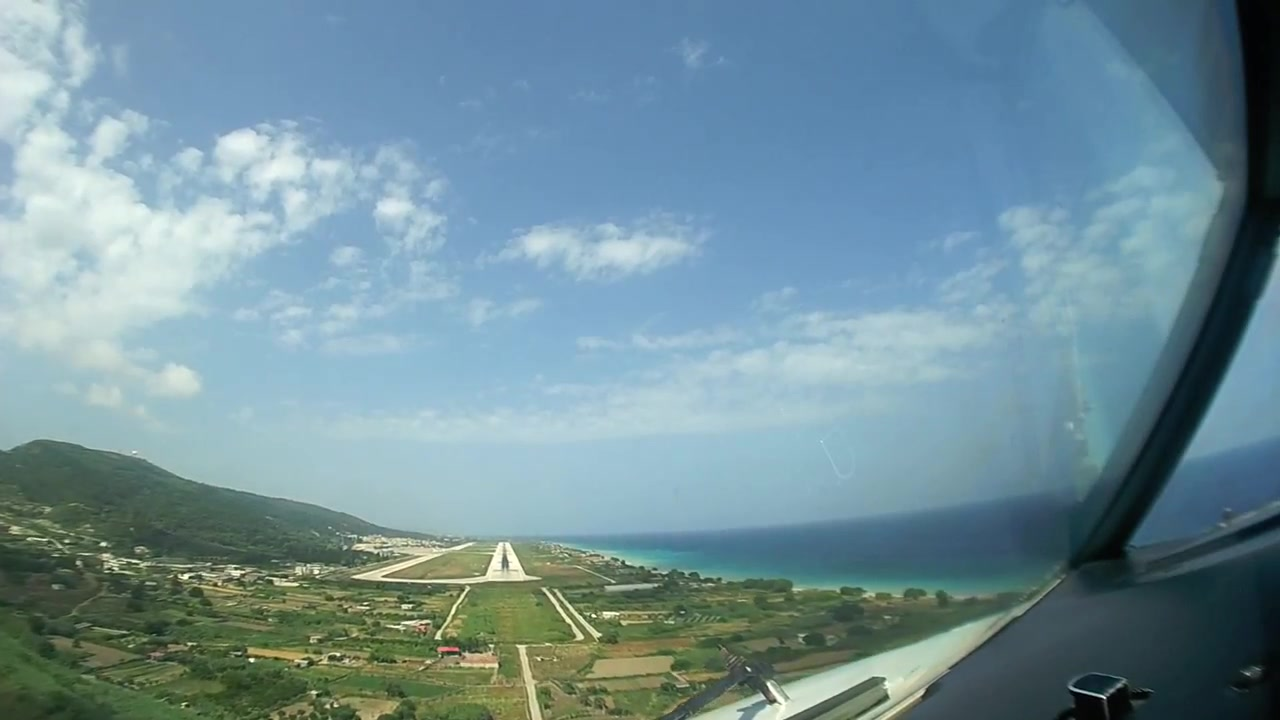runway: (481, 542, 527, 583)
